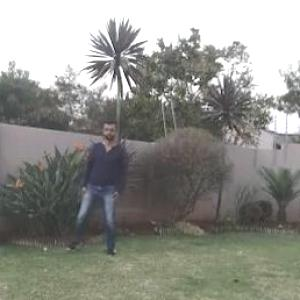follow: (87, 114, 128, 252)
